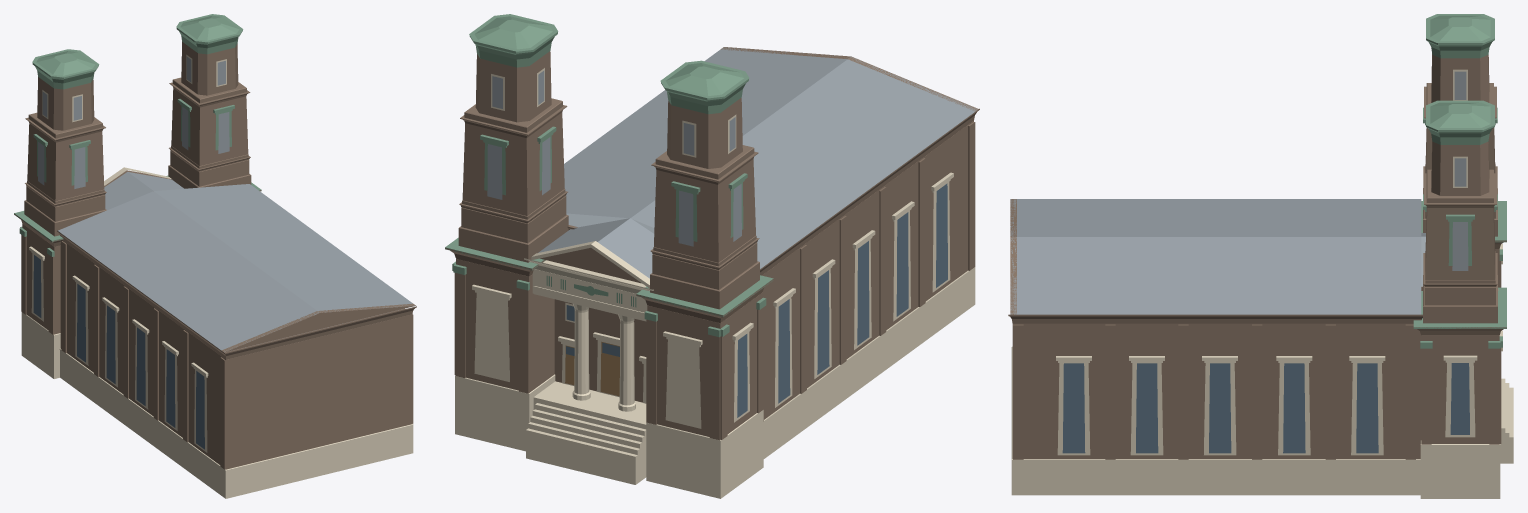
Rendered from nash-downtown-presbyterian.glb.
The picture shows the model from 3 angles, left to right: view 1: azimuth 30°, elevation 25°; view 2: azimuth 150°, elevation 25°; view 3: azimuth 270°, elevation 25°; orthographic projection. The views are drawn at different scales.
Visible parts, largest first — view 1: Downtown Presbyterian Church; view 2: Downtown Presbyterian Church; view 3: Downtown Presbyterian Church.
Boxes of the visible parts, x1,y1,x2,y2 form: Downtown Presbyterian Church: (14,14,416,498); Downtown Presbyterian Church: (445,14,979,498); Downtown Presbyterian Church: (1008,14,1513,498).
Size of the model in its own units: 25.76 by 35.5 by 43.55.
